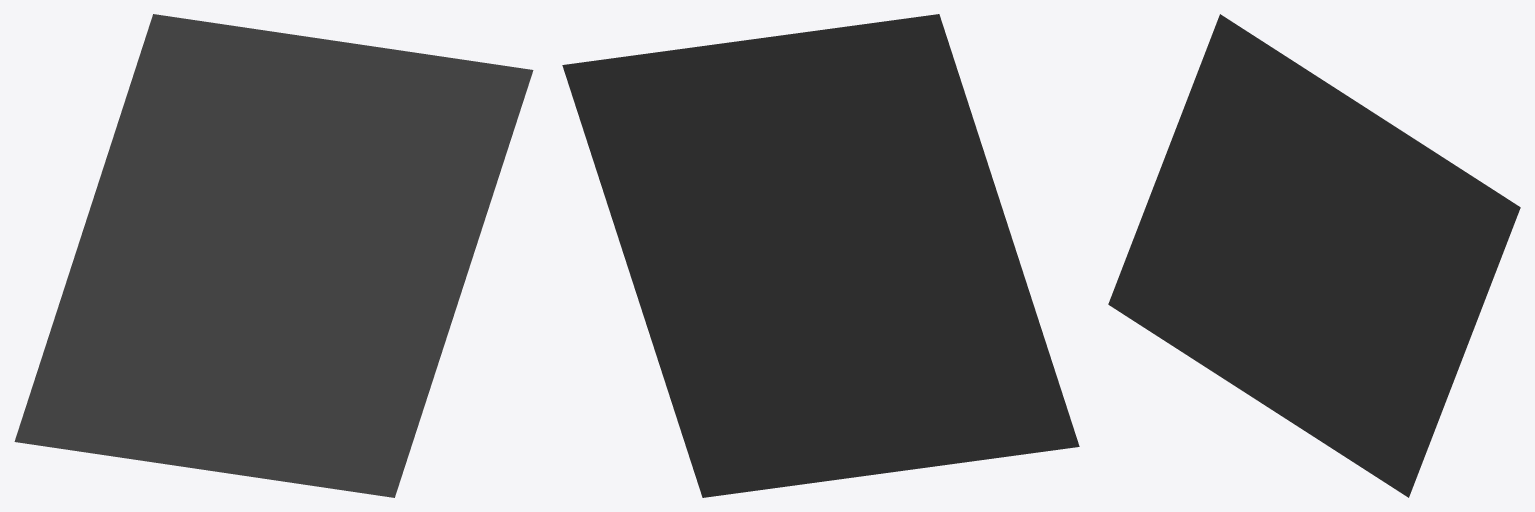
Rendered from vortex_dust.glb.
3 renders of one model, left to right at view 1: azimuth 30°, elevation 25°; view 2: azimuth 150°, elevation 25°; view 3: azimuth 330°, elevation 25°, orthographic. The views are drawn at different scales.
Parts seen in each view (by area): view 1: group_21; view 2: group_21; view 3: group_21.
Part boxes in pixels (bbox=[...]): group_21: bbox=[14, 14, 533, 497]; group_21: bbox=[562, 14, 1079, 497]; group_21: bbox=[1108, 14, 1520, 497].
Bounding box in the file's own units: 282 × 282 × 3.56.
Materials: 1 (1 with a texture image).
